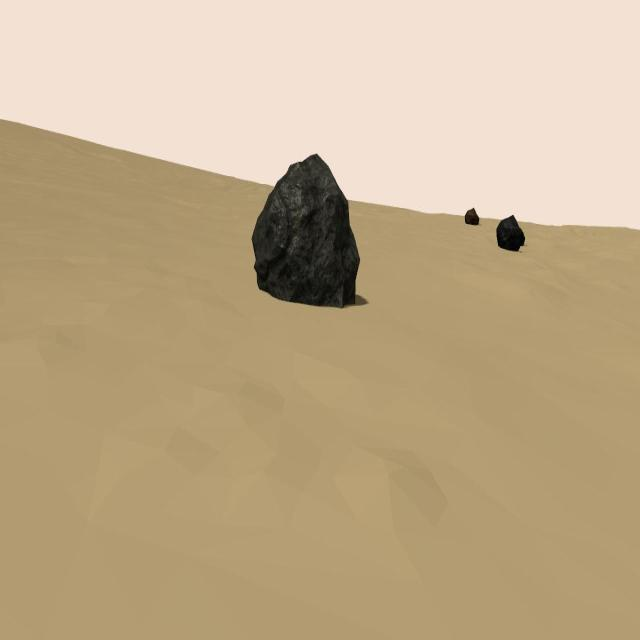rock: (251, 152, 360, 308), (496, 214, 520, 251), (465, 206, 479, 227), (517, 226, 525, 248)
